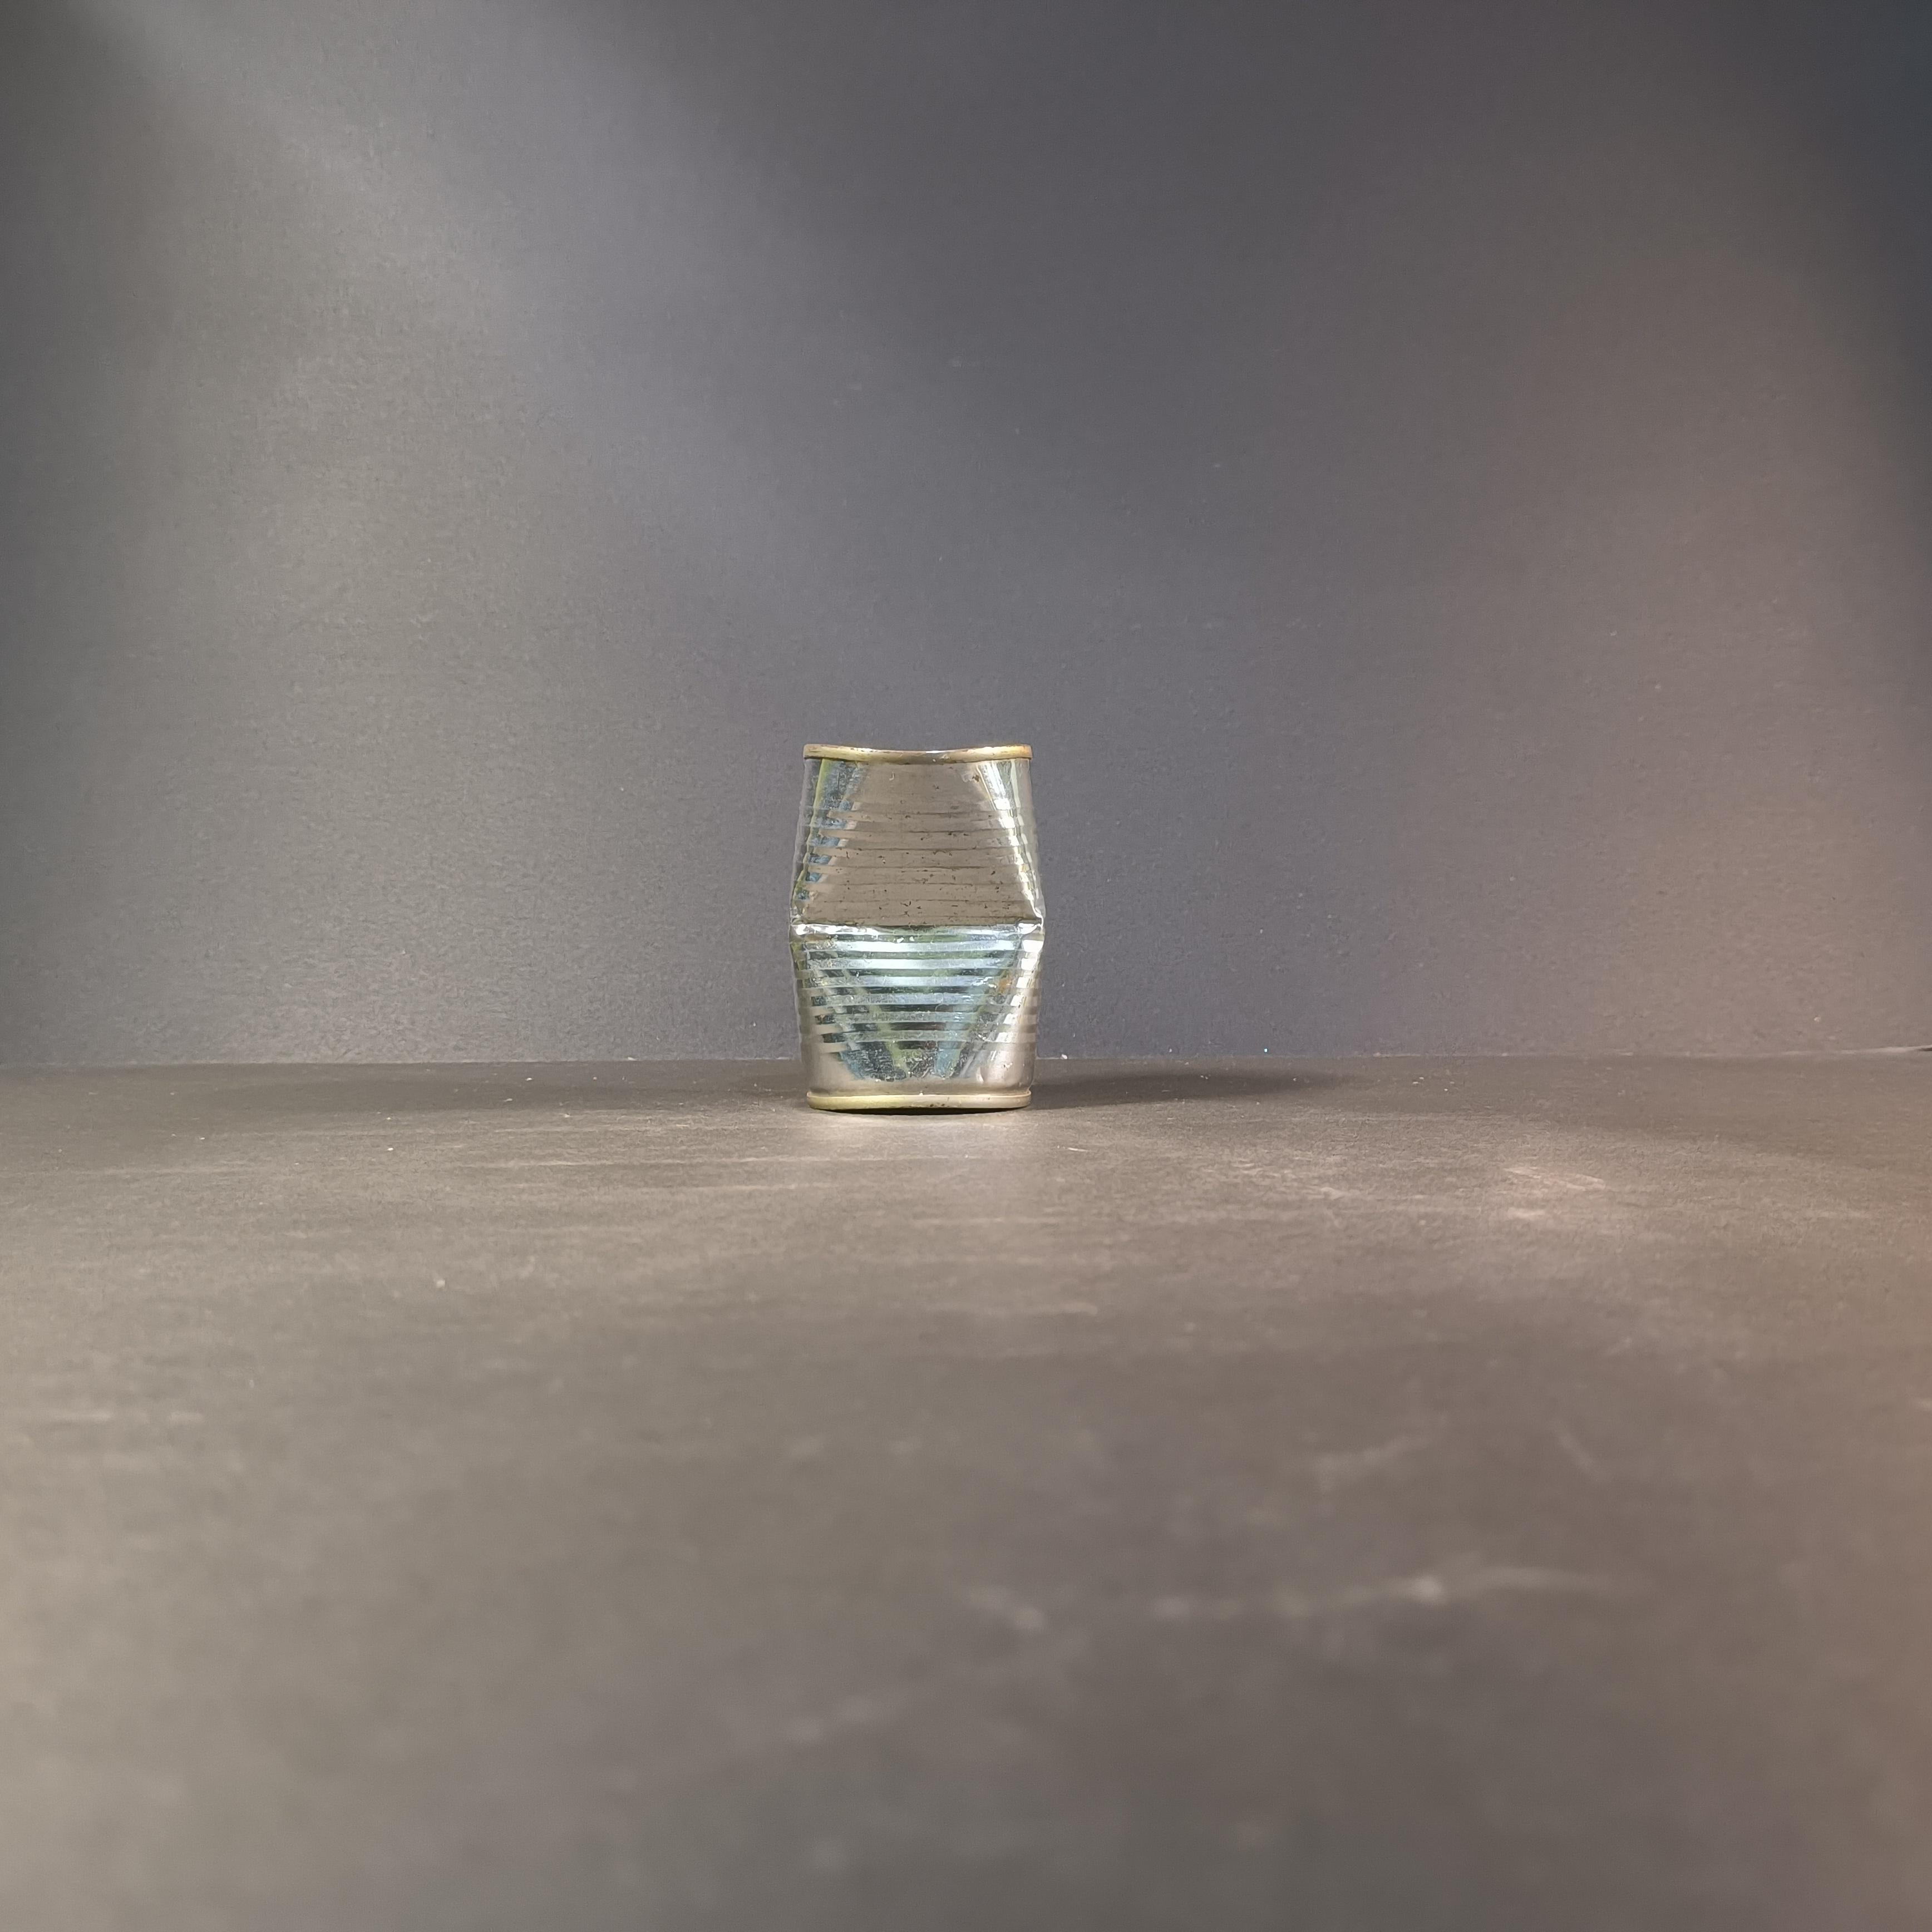Dented: (763, 715, 1074, 1127)
